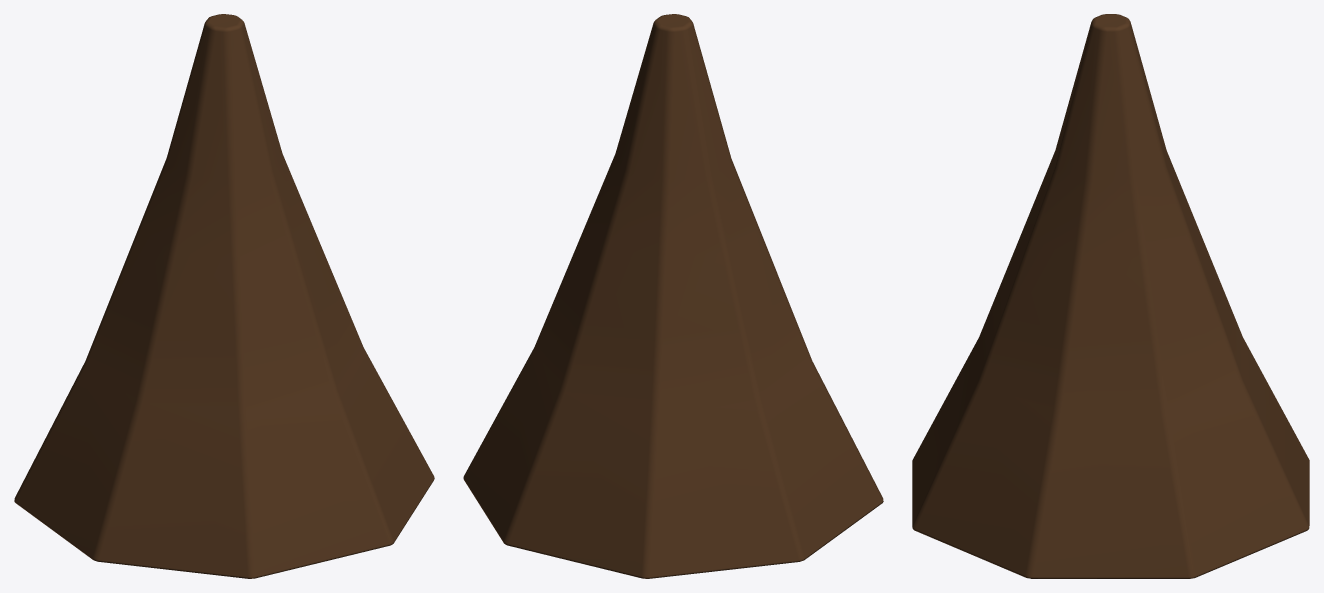
The model's file is FM_BB_Clock_Tower_Doom_001.fbx.
The picture shows the model from 3 angles, left to right: view 1: azimuth 30°, elevation 25°; view 2: azimuth 150°, elevation 25°; view 3: azimuth 270°, elevation 25°; orthographic projection.
Visible parts, largest first — view 1: FM_BB_Clock_Tower_Doom_001; view 2: FM_BB_Clock_Tower_Doom_001; view 3: FM_BB_Clock_Tower_Doom_001.
Part boxes in pixels (box(x1,y1,x2,y2)): FM_BB_Clock_Tower_Doom_001: box(14, 14, 434, 578); FM_BB_Clock_Tower_Doom_001: box(463, 14, 883, 578); FM_BB_Clock_Tower_Doom_001: box(912, 14, 1309, 578).
Size of the model in its own units: 5.14 by 6.79 by 5.14.
